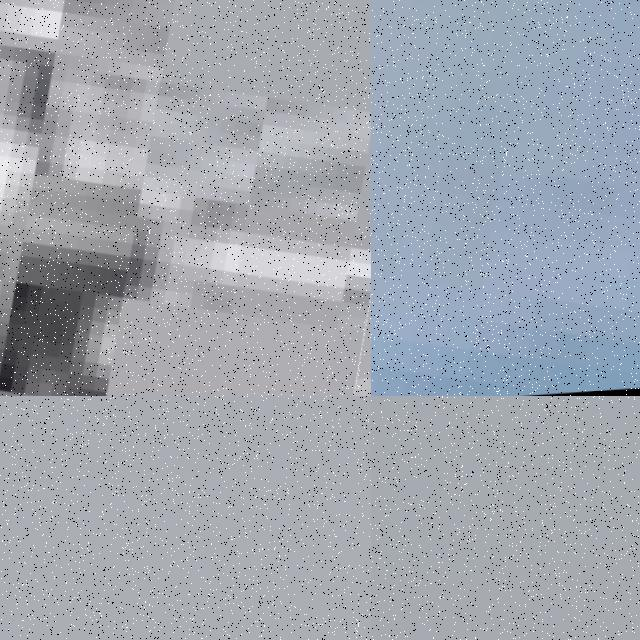0: (0, 0, 371, 396)
drone: (371, 0, 640, 396)
